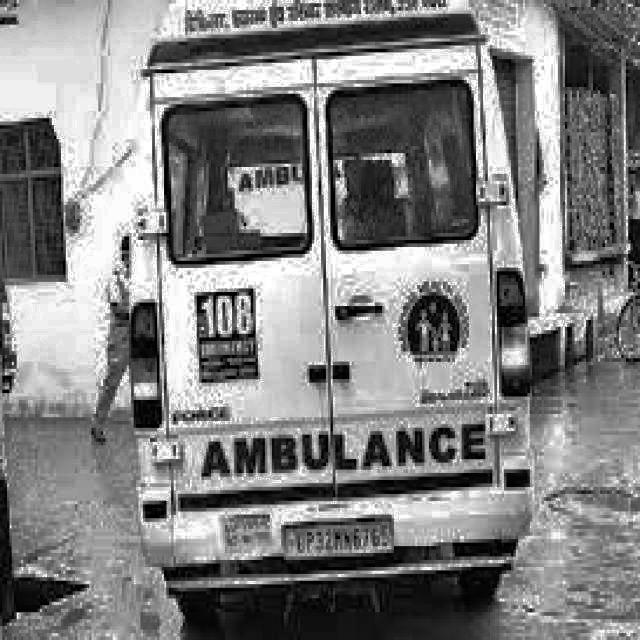LCV: (140, 6, 523, 557)
